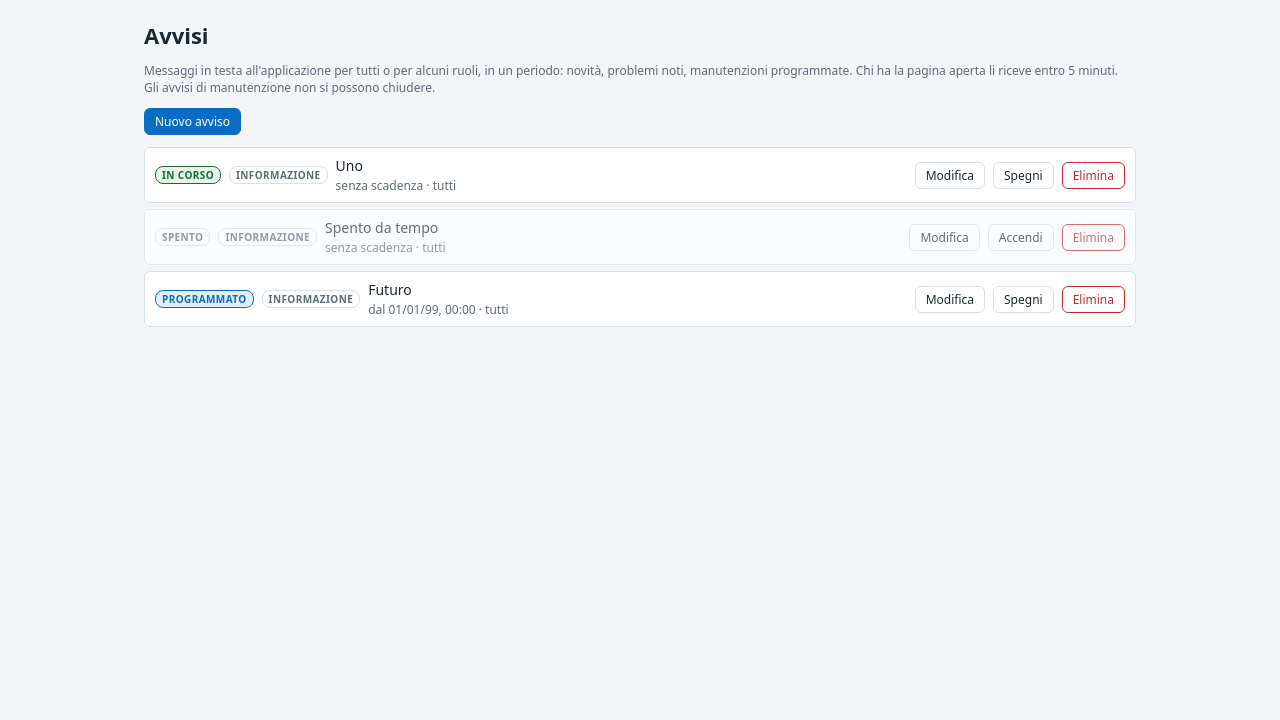
it: AdminAnnouncements › elenco: stato, modifica, spegni/accendi, elimina
Click the button "Accendi": (1021, 237) [988,224,1054,250]
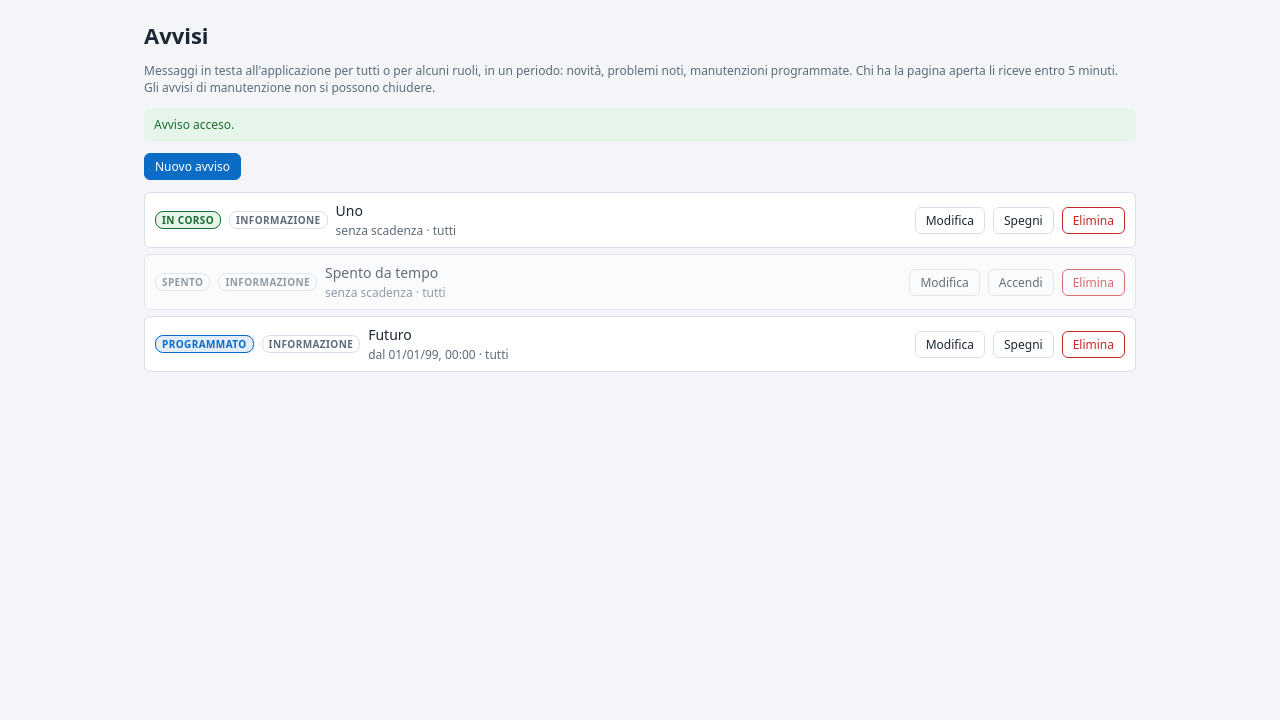
Click the button "Elimina" in the row of "Uno": (1093, 220) [1062,206,1125,234]
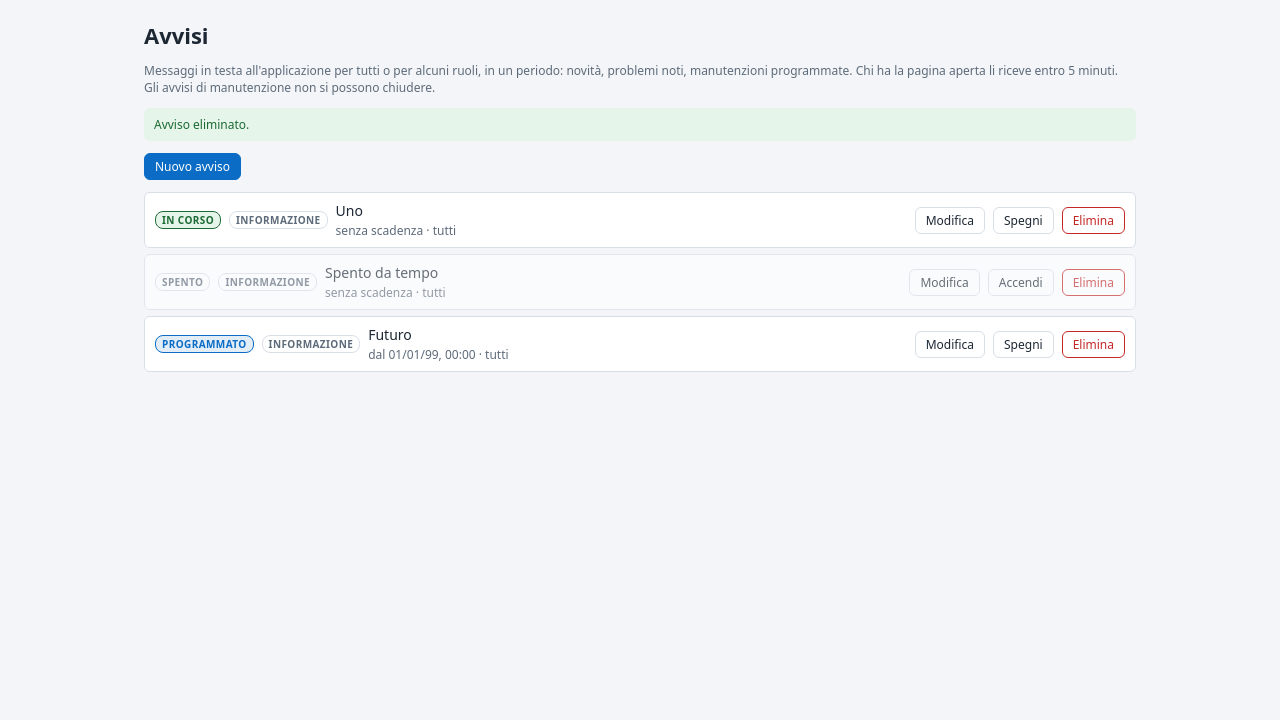
Click the button "Modifica" in the row of "dal 01/01/99, 00:00": (950, 344) [915,330,985,358]
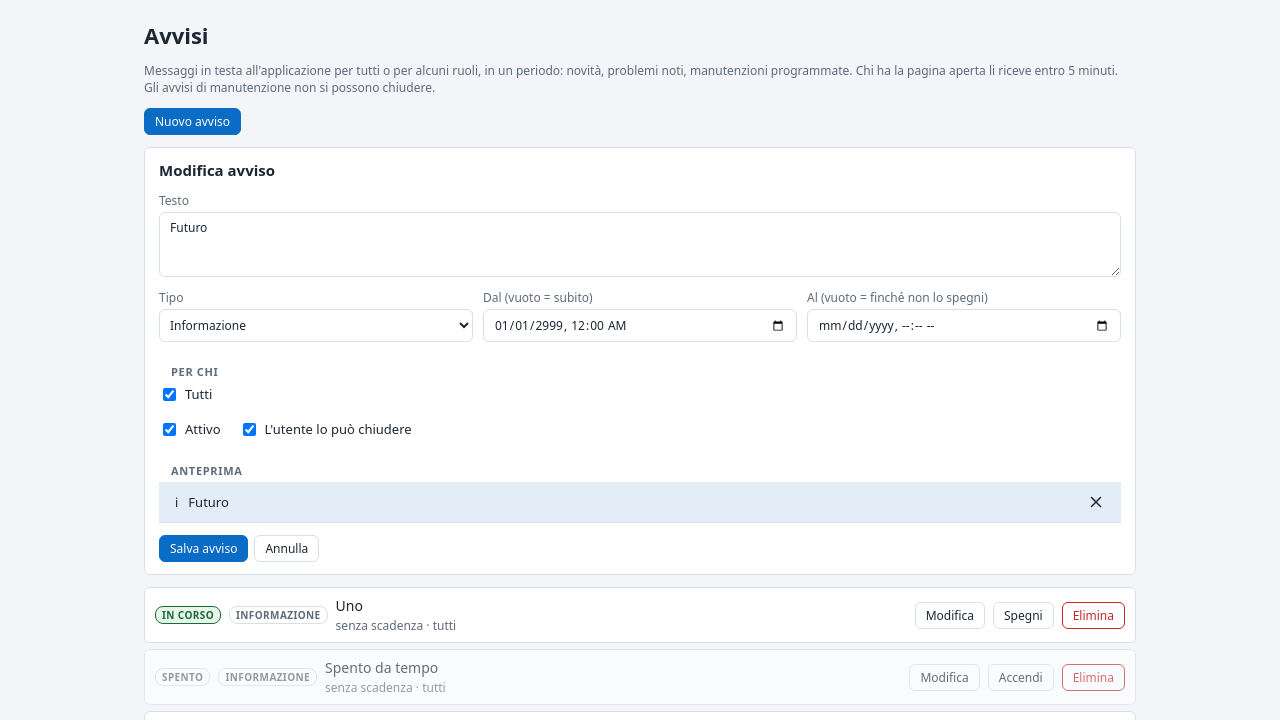
Result: the text box labelled "Testo" holds "Futuro" at [159,212,1121,277]
